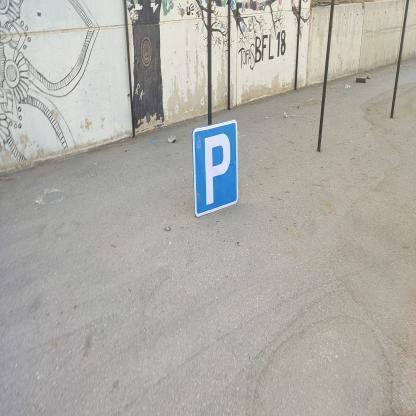parking: (192, 119, 239, 219)
